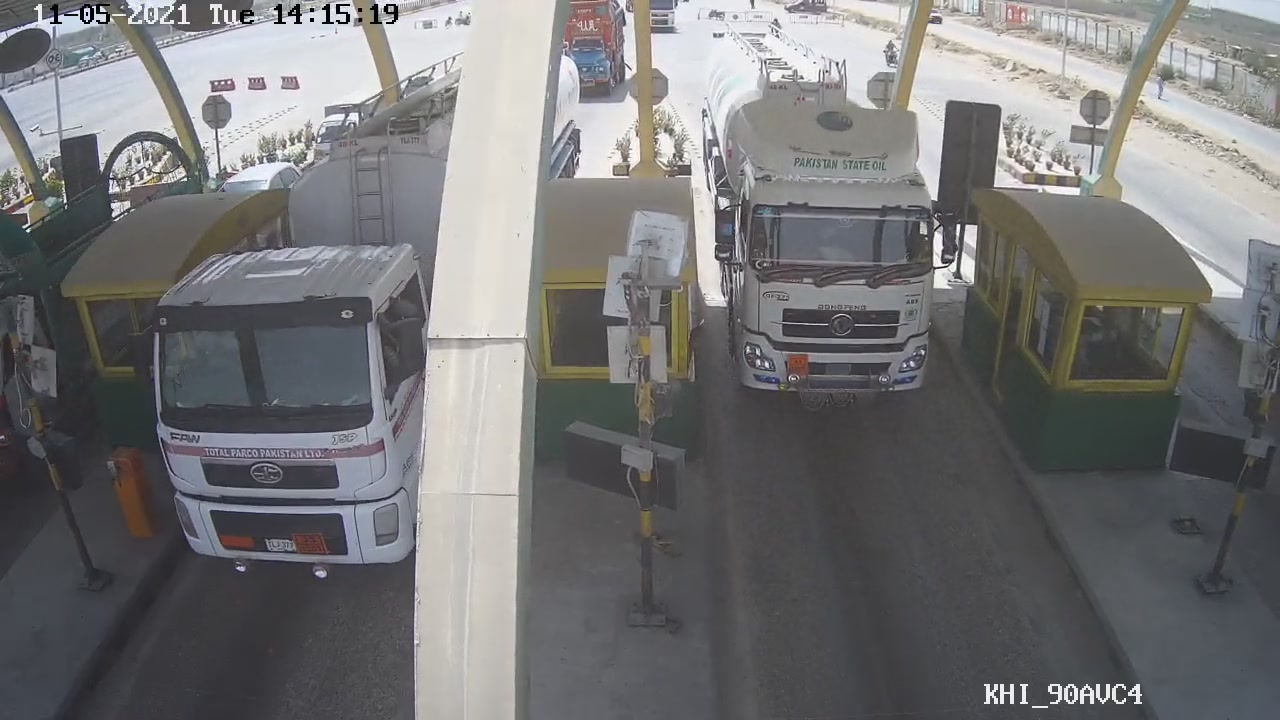F6: (694, 34, 957, 411)
